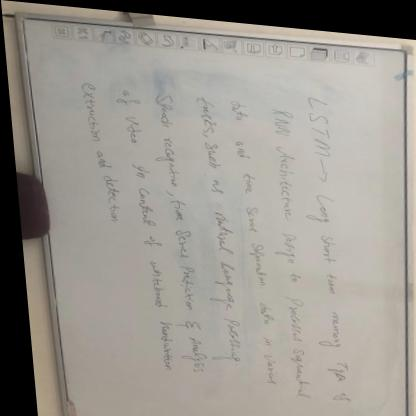Handwritten text: (108, 78, 172, 373), (183, 84, 245, 375), (142, 84, 202, 379), (298, 82, 351, 409), (222, 87, 273, 386), (266, 93, 307, 401), (68, 72, 128, 247)
Whiteboard: (11, 15, 409, 416)
